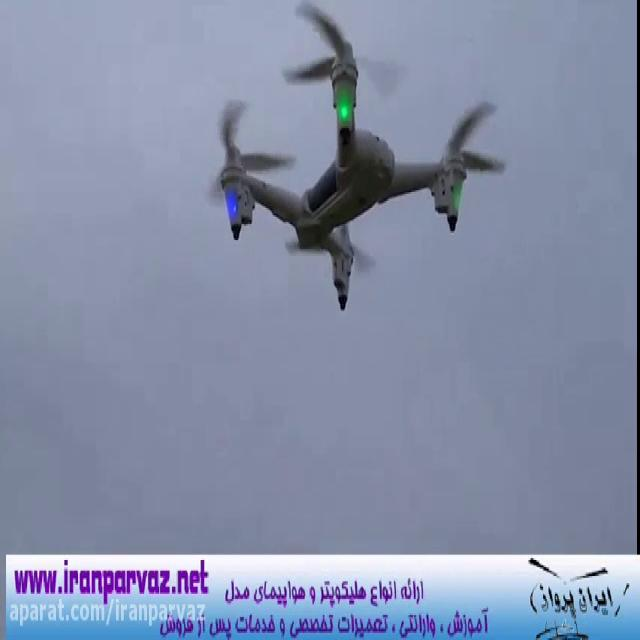drone: (195, 0, 514, 315)
